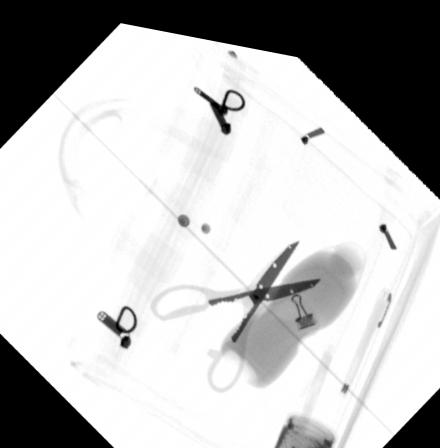Scissors: (149, 226, 322, 386)
